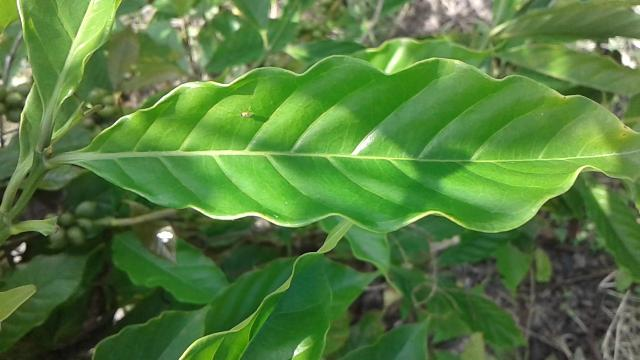healthy: (75, 54, 640, 233)
